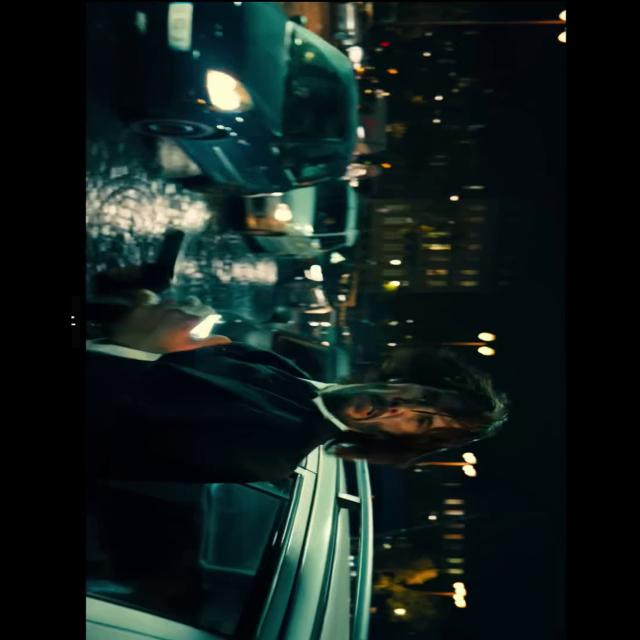weapons: (80, 220, 197, 302)
